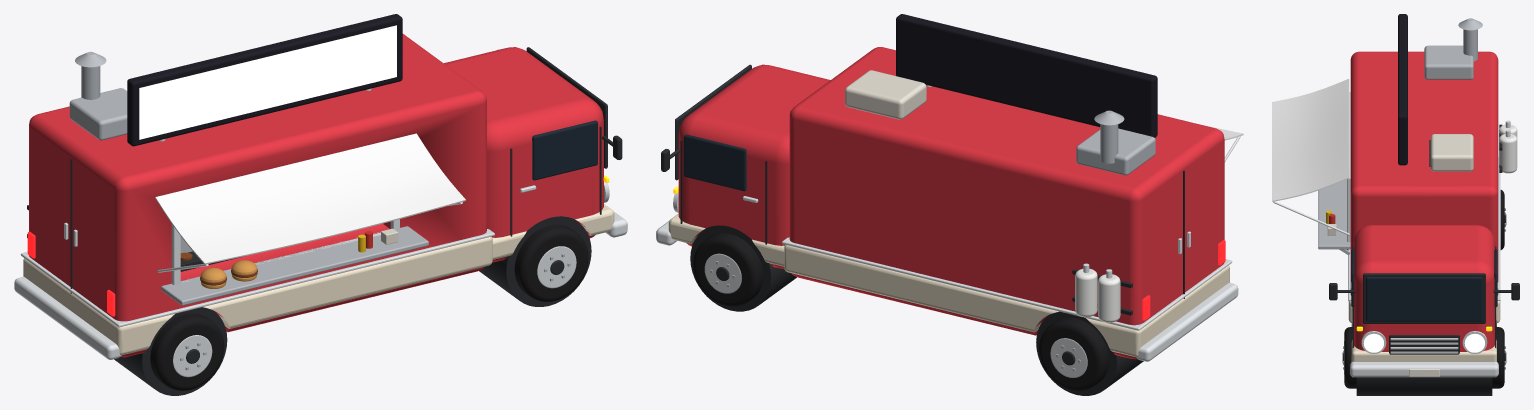
Rendered from food_truck.glb.
3 views of the same model, side by side, from view 1: azimuth 30°, elevation 25°; view 2: azimuth 150°, elevation 25°; view 3: azimuth 270°, elevation 25° (orthographic). The views are drawn at different scales.
Visible parts, largest first — view 1: FoodTruck; view 2: FoodTruck; view 3: FoodTruck.
Boxes of the visible parts, x1,y1,x2,y2 form: FoodTruck: (14, 14, 627, 395); FoodTruck: (656, 14, 1243, 395); FoodTruck: (1272, 14, 1519, 395).
Size of the model in its own units: 7.6 by 4.15 by 4.02.
